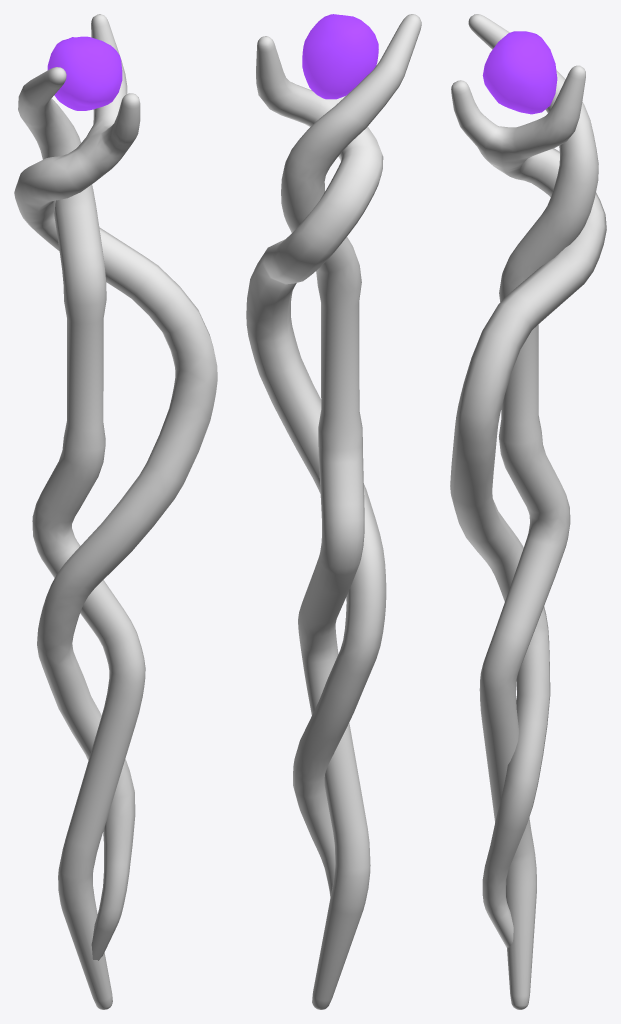
File: ast_staff.fbx
3 views of the same model, side by side, from view 1: azimuth 30°, elevation 25°; view 2: azimuth 150°, elevation 25°; view 3: azimuth 270°, elevation 25° (orthographic). The views are drawn at different scales.
Parts seen in each view (by area): view 1: Cajado, Gema Out; view 2: Cajado, Gema Out; view 3: Cajado, Gema Out.
Part boxes in pixels (<box>): Cajado: <box>14,14,217,1009</box>; Gema Out: <box>47,36,122,110</box>; Cajado: <box>246,14,421,1009</box>; Gema Out: <box>302,14,378,99</box>; Cajado: <box>450,14,606,1009</box>; Gema Out: <box>482,31,557,114</box>.
Bounding box in the file's own units: 2.43 × 1.97 × 13.34.
